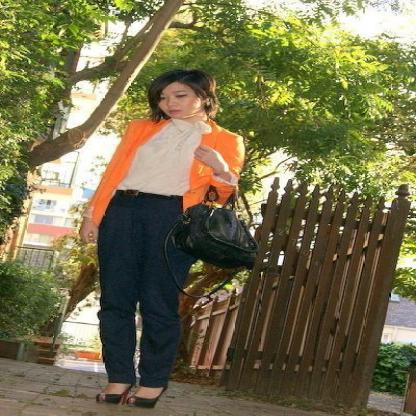bag: (171, 175, 261, 274)
jacket: (70, 119, 243, 223)
pants: (96, 190, 202, 390)
shirt: (117, 113, 211, 196)
shoe: (100, 381, 163, 407)
